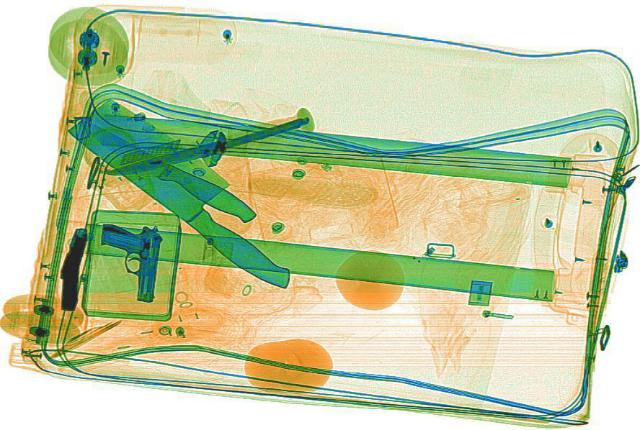Gun: (90, 220, 163, 301), (56, 226, 88, 310)
Knife: (54, 92, 330, 295), (63, 111, 263, 223), (102, 116, 310, 179)
